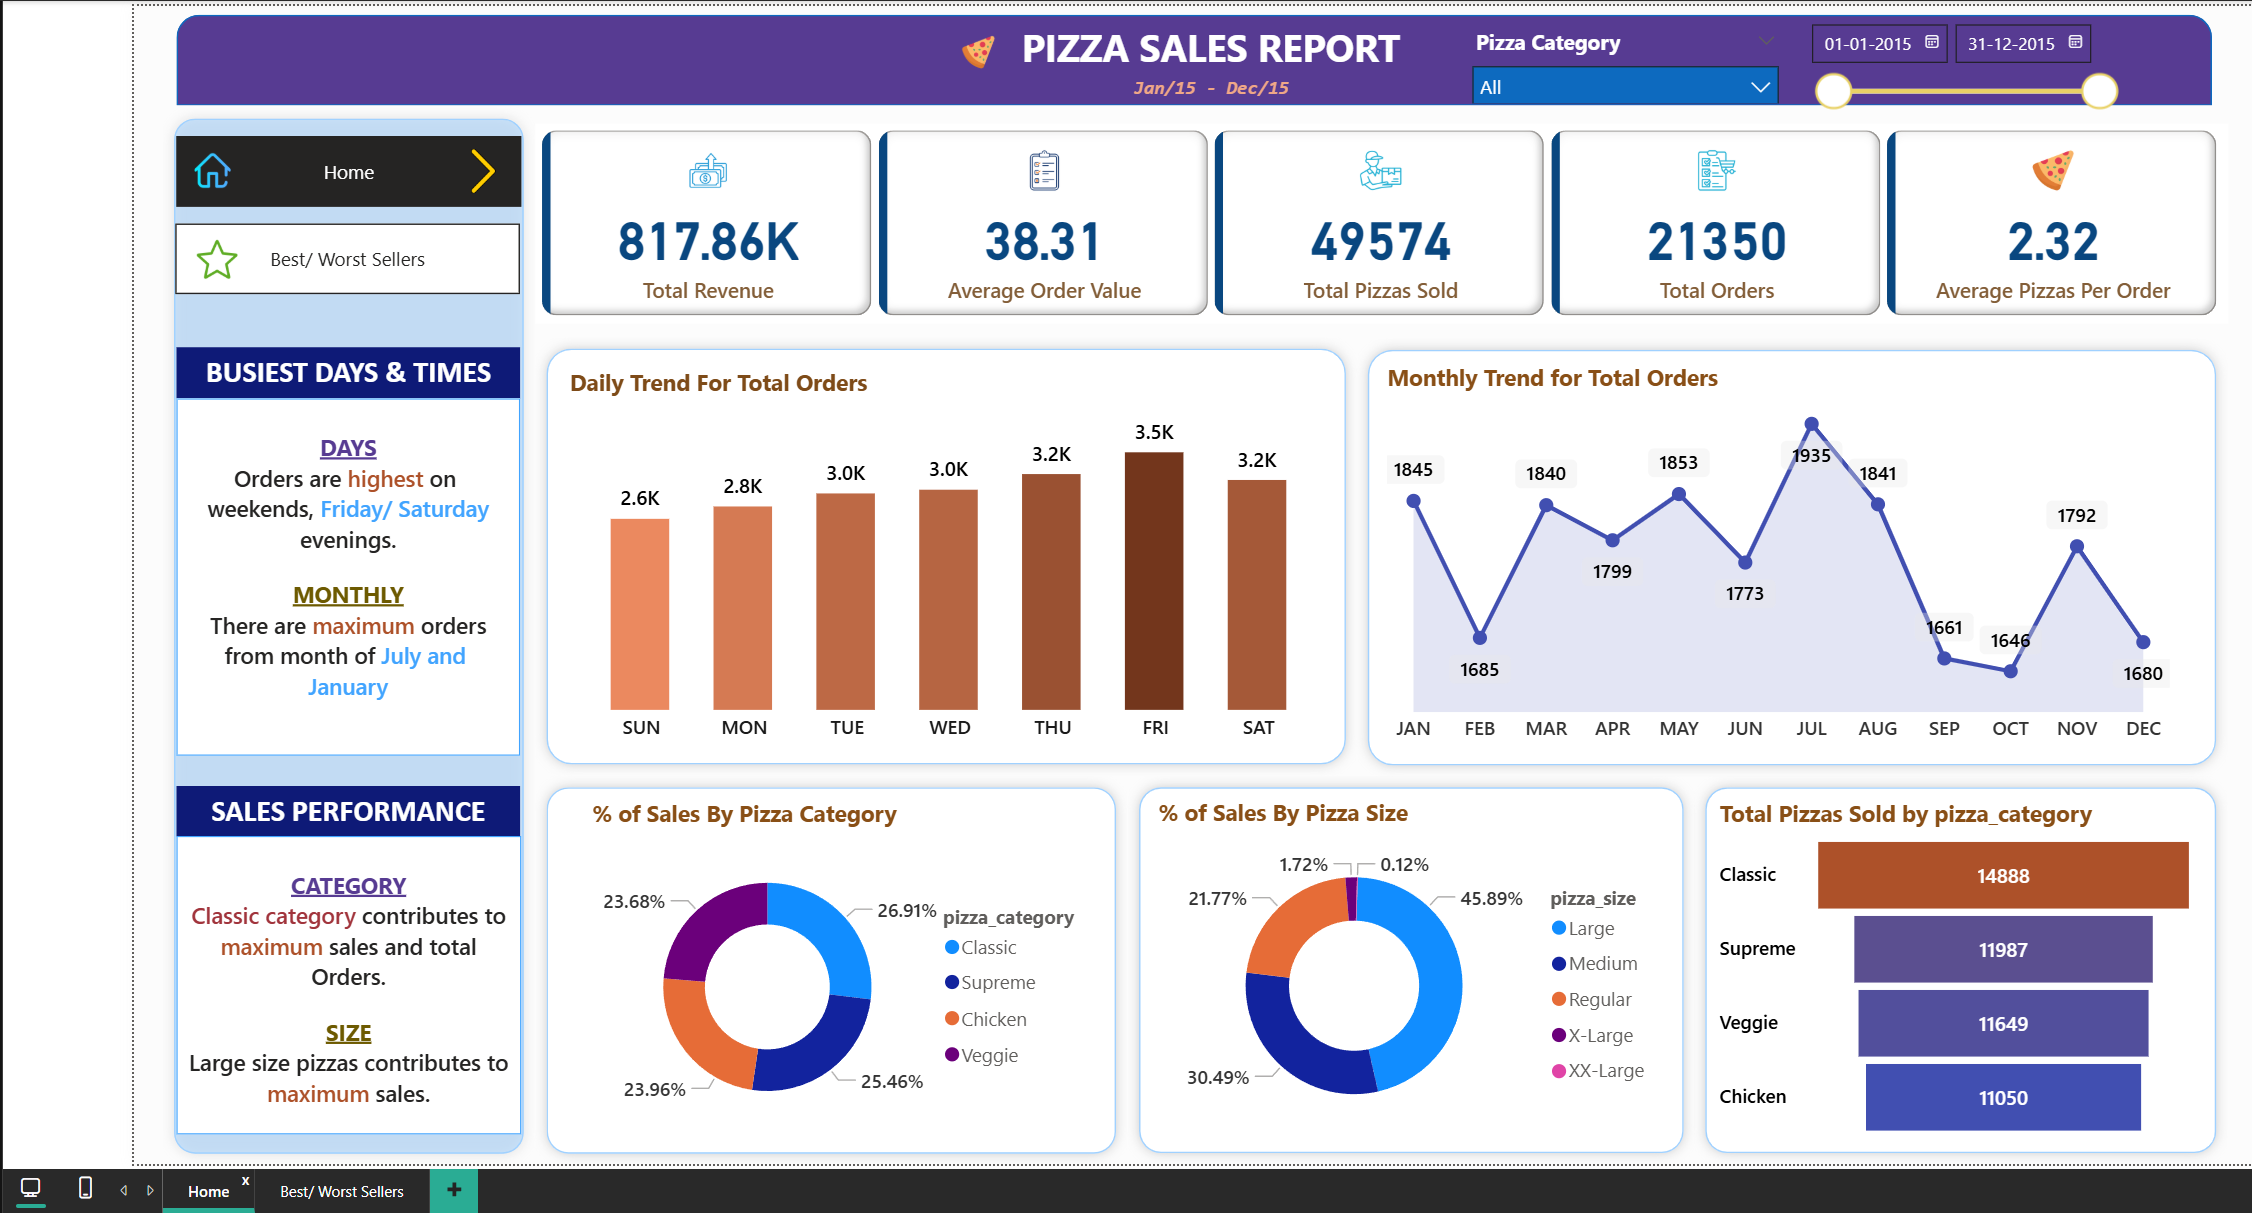

The dashboard page shown, as its layout file describes it:
{"tool":"powerbi","page":{"name":"Home","canvas":[1500,820],"ordinal":0},"visuals":[{"type":"cardVisual","fields":{"Data":["pizza_sales.Total Revenue","pizza_sales.Average Order Value","pizza_sales.Total Pizzas Sold","pizza_sales.Total Orders","pizza_sales.Average Pizzas Per Order"]},"box":[283.8,83.2,1198.6,141.9],"z":0},{"type":"shape","box":[30.3,6.6,1440.8,64.3],"z":1000},{"type":"textbox","box":[612.1,6.6,299.9,57.7],"z":2000},{"type":"textbox","box":[702.9,43.5,131.5,27.4],"z":3000},{"type":"image","box":[577.1,16.1,41.6,34.1],"z":4000},{"type":"shape","box":[283.8,234.6,581.8,310.3],"z":5000},{"type":"columnChart","title":"Daily Trend For Total Orders","fields":{"Category":["pizza_sales.Order Day"],"Y":["pizza_sales.Total Orders"]},"box":[303.7,250.7,548.7,280],"z":6000},{"type":"shape","box":[865.7,235,616.4,310.1],"z":7000},{"type":"areaChart","title":"Monthly Trend for Total Orders","fields":{"Y":["pizza_sales.Total Orders"],"Category":["pizza_sales.Order Month"]},"box":[881.9,251.1,564.1,279.7],"z":8000},{"type":"shape","box":[283.8,544.9,419.1,275.3],"z":9000},{"type":"shape","box":[703,545.1,401.4,274.9],"z":10000},{"type":"shape","box":[1104.5,545.1,377.7,274.9],"z":11000},{"type":"donutChart","title":"% of Sales By Pizza Category","fields":{"Category":["pizza_sales.pizza_category"],"Y":["pizza_sales.Total Revenue"]},"box":[319.6,560.3,367.2,247.3],"z":12000},{"type":"donutChart","title":"% of Sales By Pizza Size","fields":{"Y":["pizza_sales.Total Revenue"],"Category":["pizza_sales.pizza_size"]},"box":[720.1,559.4,367.2,247.3],"z":13000},{"type":"funnel","fields":{"Category":["pizza_sales.pizza_category"],"Y":["pizza_sales.Total Pizzas Sold"]},"box":[1117.8,560.3,347.2,246.4],"z":14000},{"type":"shape","box":[20,71.3,263.5,748.7],"z":15000},{"type":"textbox","box":[30.4,241.6,243.5,36.1],"z":16000},{"type":"textbox","box":[30.4,277.8,243.5,253],"z":17000},{"type":"textbox","box":[30.4,551.8,243.5,36.1],"z":17001},{"type":"textbox","box":[30.3,587.5,244.1,211],"z":17002},{"type":"slicer","fields":{"Values":["pizza_sales.pizza_category"]},"box":[937,10.5,236.9,58],"z":17003},{"type":"slicer","fields":{"Values":["pizza_sales.order_date"]},"box":[1174.9,2.9,237.8,74.2],"z":17004},{"type":"pageNavigator","box":[30.3,91.8,244.1,50.1],"z":17005},{"type":"pageNavigator","box":[29.3,154.2,244.1,50.1],"z":17006},{"type":"image","box":[222.3,96.5,51.1,40.7],"z":17007},{"type":"image","box":[37.8,96.5,35,40.7],"z":17008},{"type":"image","box":[37.8,159.9,41.6,38.8],"z":17009}]}

Visuals, with their boxes on the page's 1500x820 design canvas (x1, y1, x2, y2). These are canvas units, not pixel positions in the 2252x1213 screenshot, which may show the page scaled, cropped or inside an application window:
cardVisual - pizza_sales.Total Revenue x pizza_sales.Average Order Value: (x1=284, y1=83, x2=1482, y2=225)
shape: (x1=30, y1=7, x2=1471, y2=71)
textbox: (x1=612, y1=7, x2=912, y2=64)
textbox: (x1=703, y1=44, x2=834, y2=71)
image: (x1=577, y1=16, x2=619, y2=50)
shape: (x1=284, y1=235, x2=866, y2=545)
"Daily Trend For Total Orders" columnChart: (x1=304, y1=251, x2=852, y2=531)
shape: (x1=866, y1=235, x2=1482, y2=545)
"Monthly Trend for Total Orders" areaChart: (x1=882, y1=251, x2=1446, y2=531)
shape: (x1=284, y1=545, x2=703, y2=820)
shape: (x1=703, y1=545, x2=1104, y2=820)
shape: (x1=1104, y1=545, x2=1482, y2=820)
"% of Sales By Pizza Category" donutChart: (x1=320, y1=560, x2=687, y2=808)
"% of Sales By Pizza Size" donutChart: (x1=720, y1=559, x2=1087, y2=807)
funnel - pizza_sales.pizza_category x pizza_sales.Total Pizzas Sold: (x1=1118, y1=560, x2=1465, y2=807)
shape: (x1=20, y1=71, x2=284, y2=820)
textbox: (x1=30, y1=242, x2=274, y2=278)
textbox: (x1=30, y1=278, x2=274, y2=531)
textbox: (x1=30, y1=552, x2=274, y2=588)
textbox: (x1=30, y1=588, x2=274, y2=798)
slicer - pizza_sales.pizza_category: (x1=937, y1=10, x2=1174, y2=68)
slicer - pizza_sales.order_date: (x1=1175, y1=3, x2=1413, y2=77)
pageNavigator: (x1=30, y1=92, x2=274, y2=142)
pageNavigator: (x1=29, y1=154, x2=273, y2=204)
image: (x1=222, y1=96, x2=273, y2=137)
image: (x1=38, y1=96, x2=73, y2=137)
image: (x1=38, y1=160, x2=79, y2=199)
